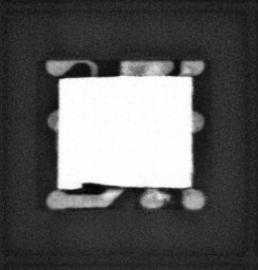DIE_BROKEN: (77, 180, 125, 191)
